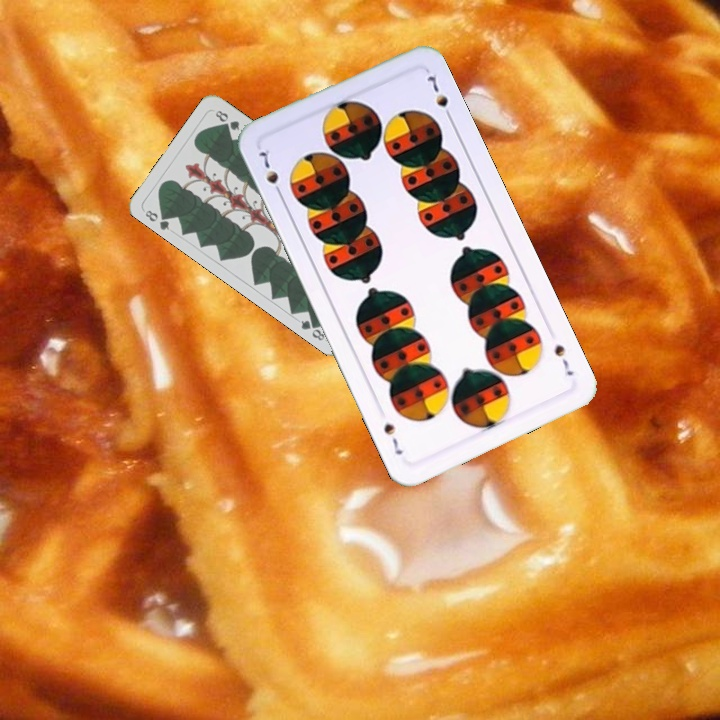G8: (141, 206, 173, 233)
S7: (255, 145, 286, 200), (550, 340, 576, 379)
